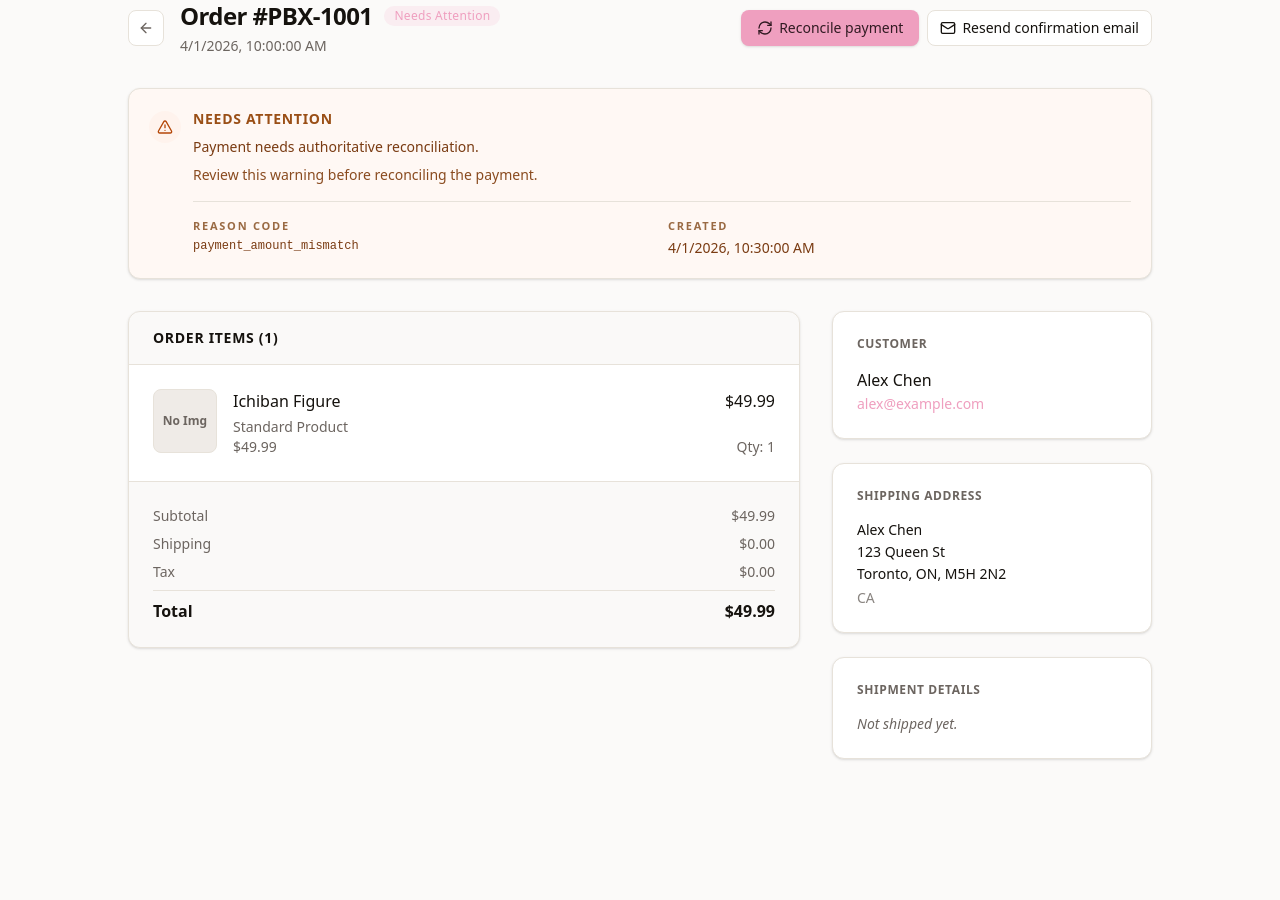
it: AdminOrderDetailPageClient › requires confirmation before reconciling and disables actions while pending
The image size is (1280, 900).
Click the button "Reconcile payment" at [830, 28], box [741, 10, 919, 46]
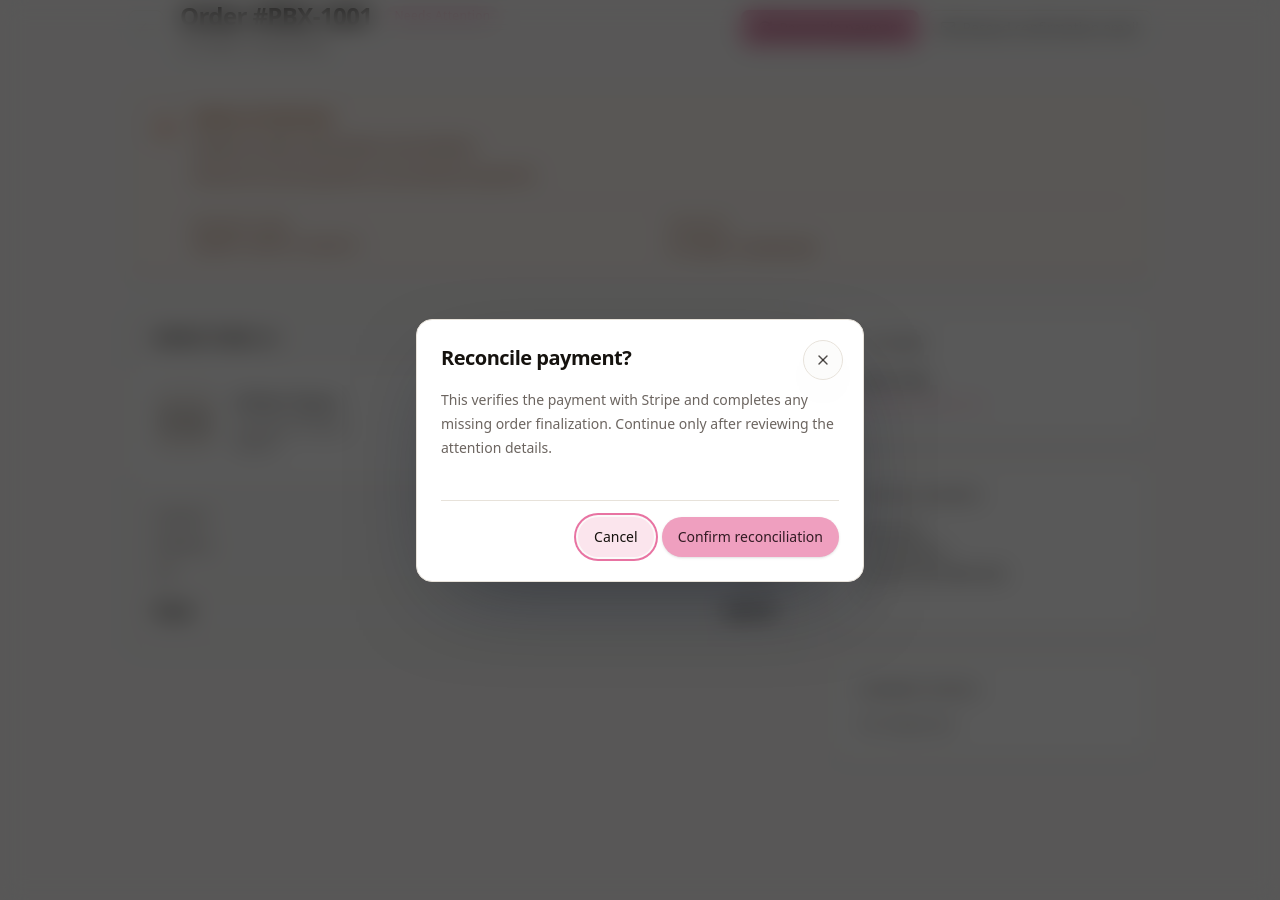
Click the button "Confirm reconciliation" at [750, 536], box [662, 516, 839, 556]
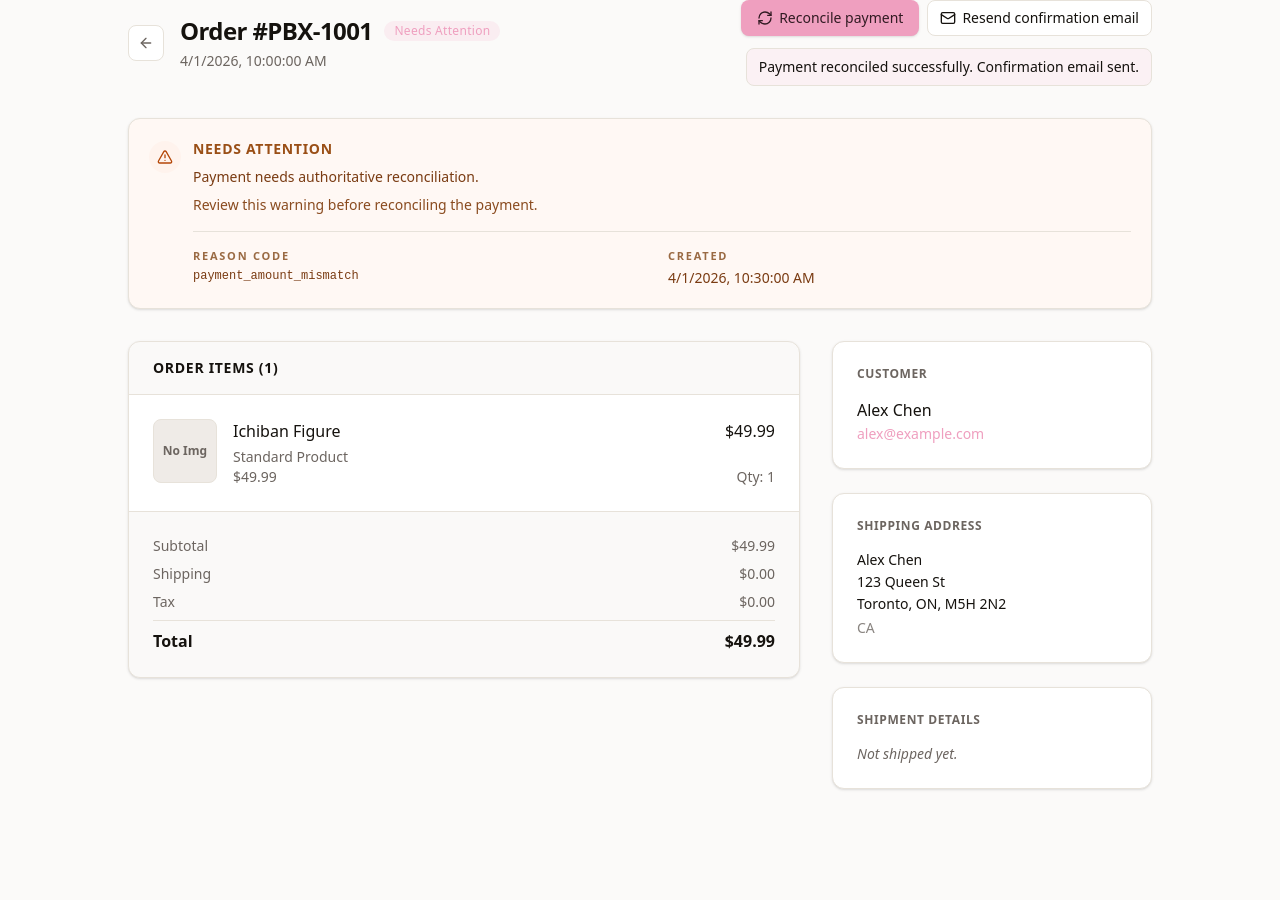
Now the text "Payment reconciled successfully. Confirmation email sent." is shown, box [746, 48, 1152, 86]
